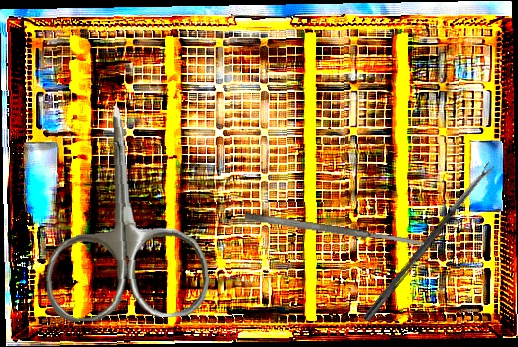Iris Scissors: (35, 101, 212, 324)
Spatula Surgical: (244, 210, 425, 250)
Surgical Spoon: (362, 161, 496, 324)
